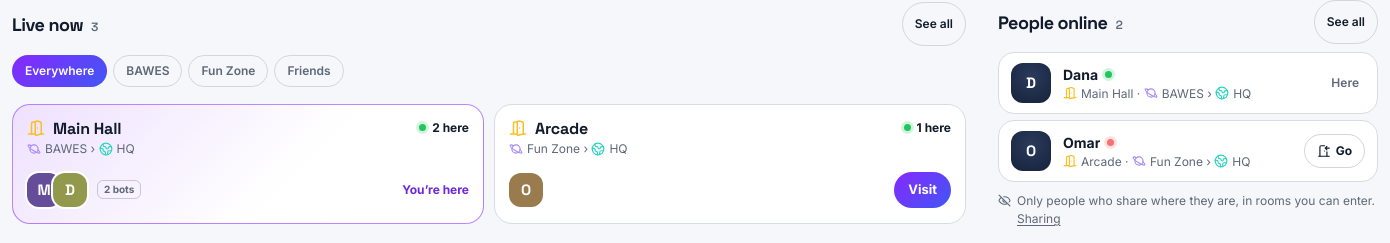
Test: Live now › filters by universe
What coordinates should you click on to do the following:
click the button "Fun Zone"
I would click on:
 (228, 71)
Its box is [188,55,268,87].
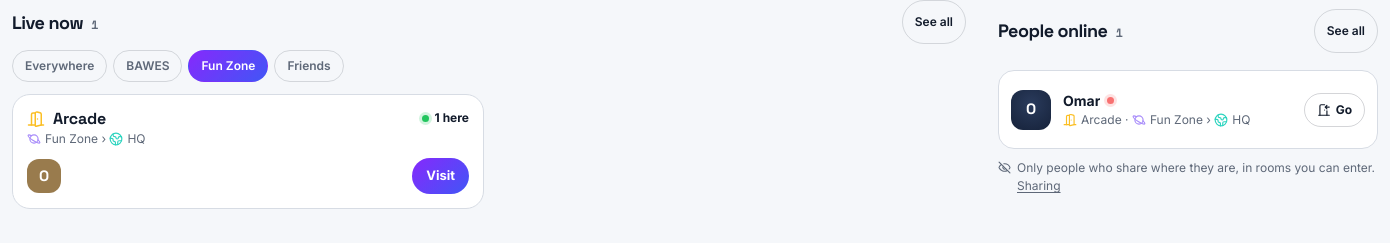
Expected: the number of list items with test id "live-person" is 1, [998,70,1378,149]
